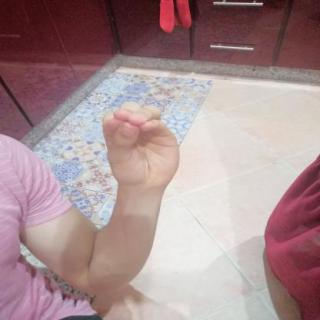HA: (91, 91, 191, 197)
